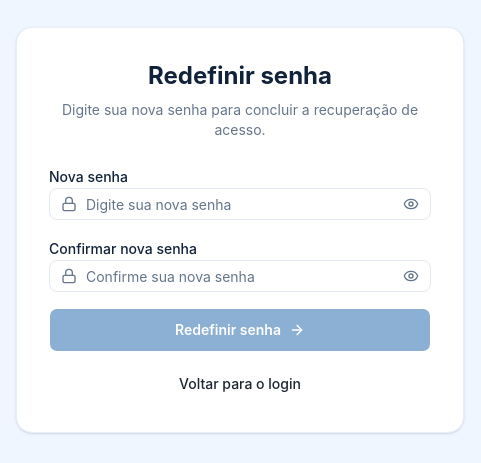
Test: PasswordReset › mostra erro quando as senhas não coincidem
Type "12345678" into the password field with placeholder "Digite sua nova senha" at (240, 204), box [49,188,431,220]
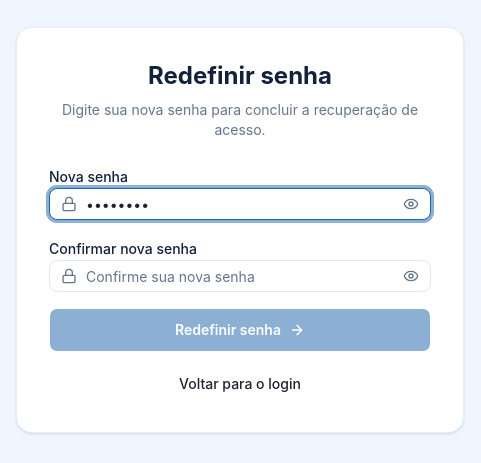
Type "87654321" into the password field with placeholder "Confirme sua nova senha" at (240, 276), box [49,260,431,292]
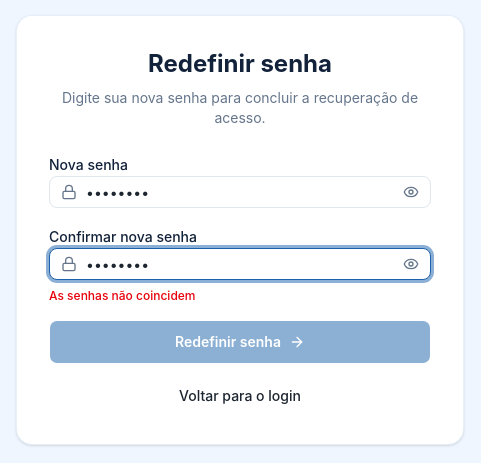
Expected: the text "As senhas não coincidem" is shown, [49,288,196,303]
